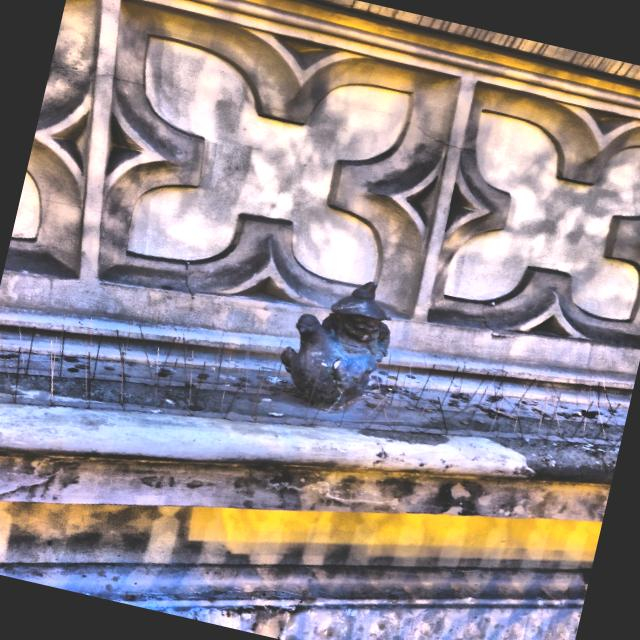Golebnik: (279, 280, 390, 413)
